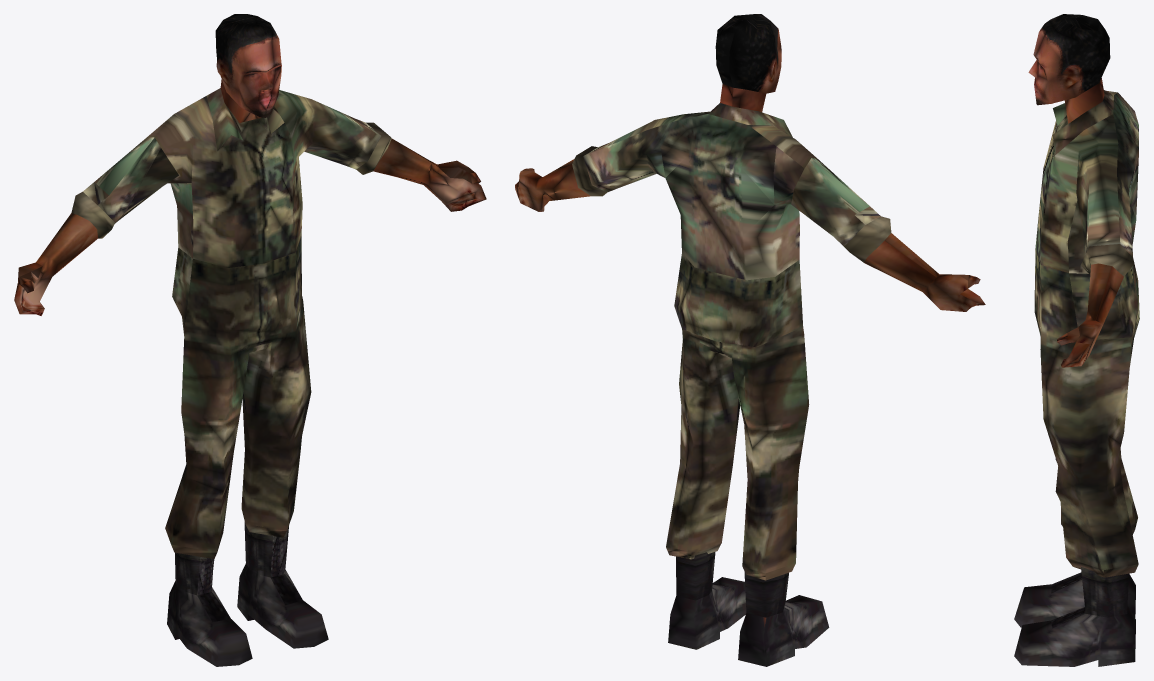
File: C4MechnC.glb
3 renders of one model, left to right at view 1: azimuth 30°, elevation 25°; view 2: azimuth 150°, elevation 25°; view 3: azimuth 270°, elevation 25°, orthographic.
Visible parts, largest first — view 1: _C4MechnC; view 2: _C4MechnC; view 3: _C4MechnC.
Boxes of the visible parts, x1,y1,x2,y2 form: _C4MechnC: (14,14,486,666); _C4MechnC: (515,14,985,666); _C4MechnC: (1014,14,1139,666).
Size of the model in its own units: 1.6 by 2.02 by 0.371.
2 materials, 2 textured.
